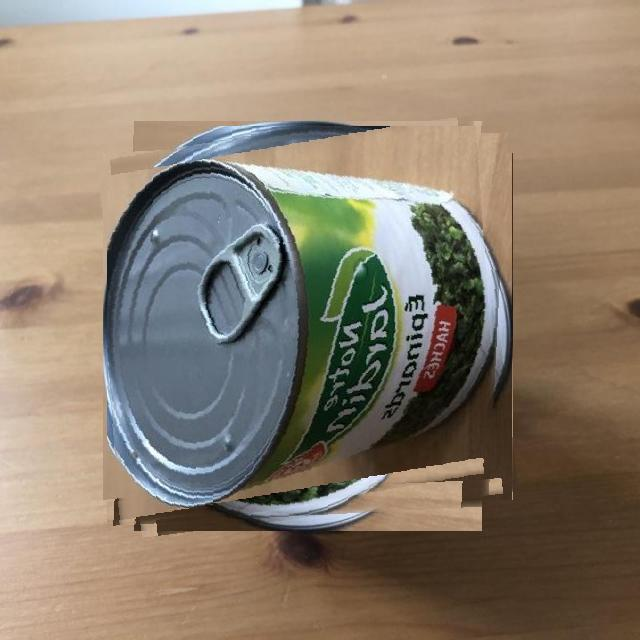recyclable: (107, 126, 509, 527)
